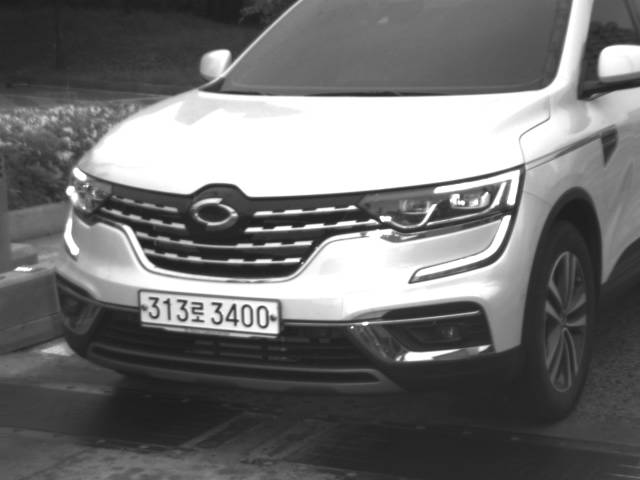car: (49, 1, 639, 425)
plate: (138, 289, 282, 336)
